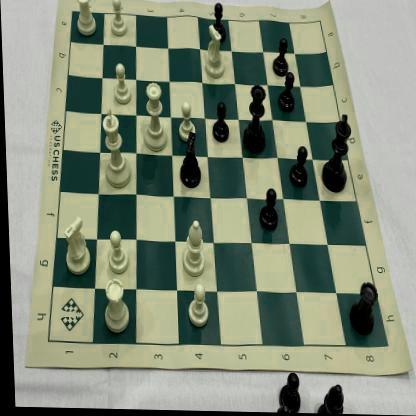black-king: (317, 108, 354, 196)
black-knight: (174, 132, 206, 194)
black-pawn: (253, 185, 279, 235), (274, 71, 300, 117), (285, 144, 309, 192), (207, 100, 232, 145), (206, 1, 230, 45), (267, 35, 290, 79)
black-queen: (238, 80, 272, 157)
black-rook: (342, 278, 379, 340)
white-bishop: (176, 216, 206, 281)
white-king: (96, 107, 132, 191)
white-knight: (58, 209, 92, 280)
white-pawn: (182, 281, 210, 331), (101, 230, 128, 276), (108, 62, 133, 108), (106, 0, 130, 40), (176, 102, 197, 144)
white-queen: (139, 80, 170, 154)
white-rook: (95, 277, 132, 337), (70, 0, 99, 41)
